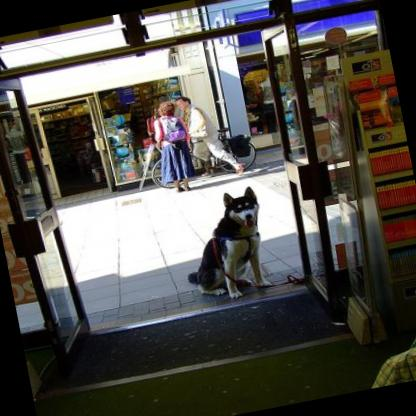Eskimo_dog: (172, 185, 276, 306)
